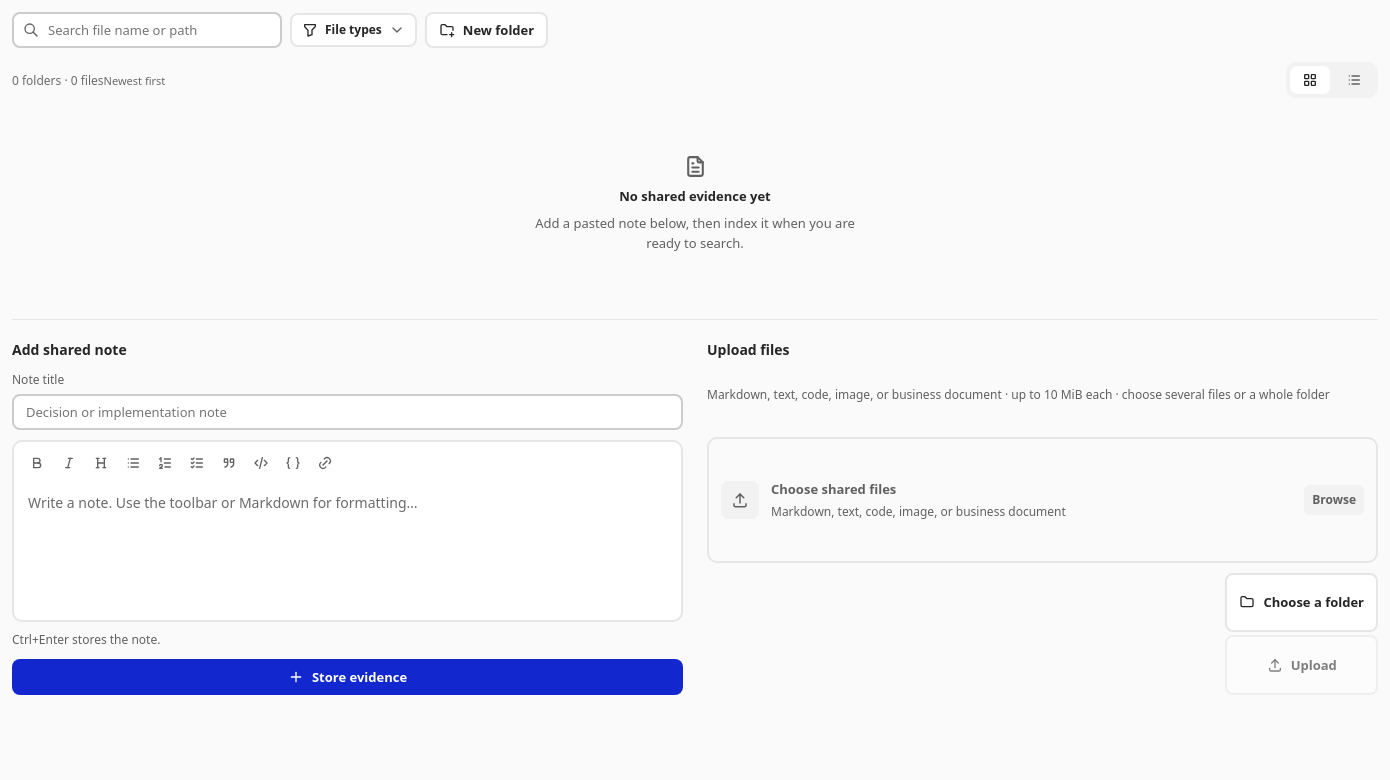
Test: the evidence section on the shared pieces › opens the folder form with a labelled, required field
Click the button "New folder" at point(486, 30), box [425,12,548,48]
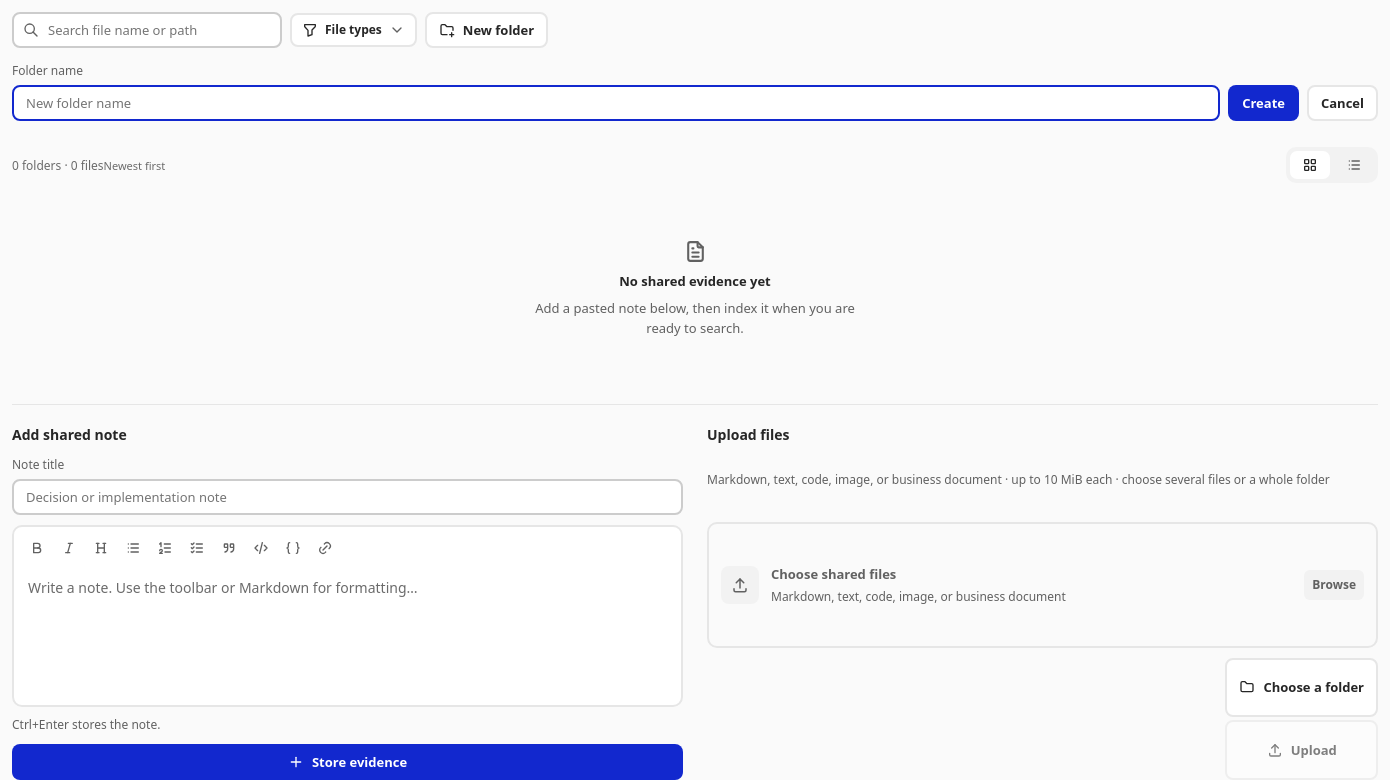
Result: the element labelled "Folder name" is shown at [12,62,1220,121]
